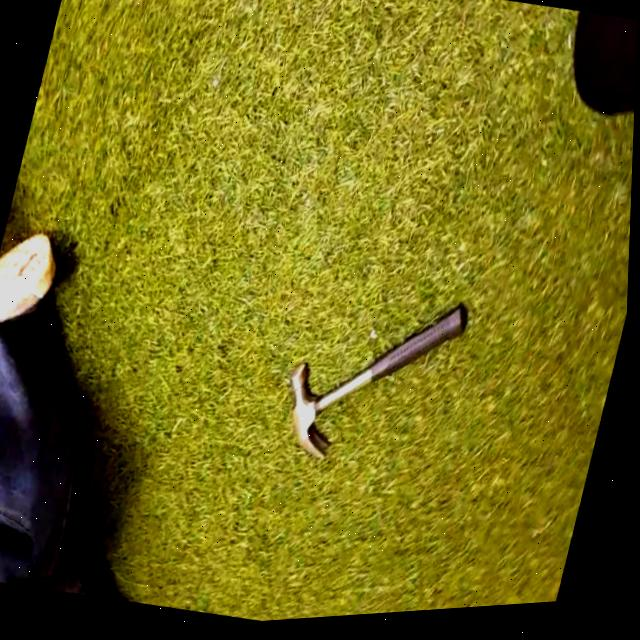hammer: (271, 276, 474, 490)
